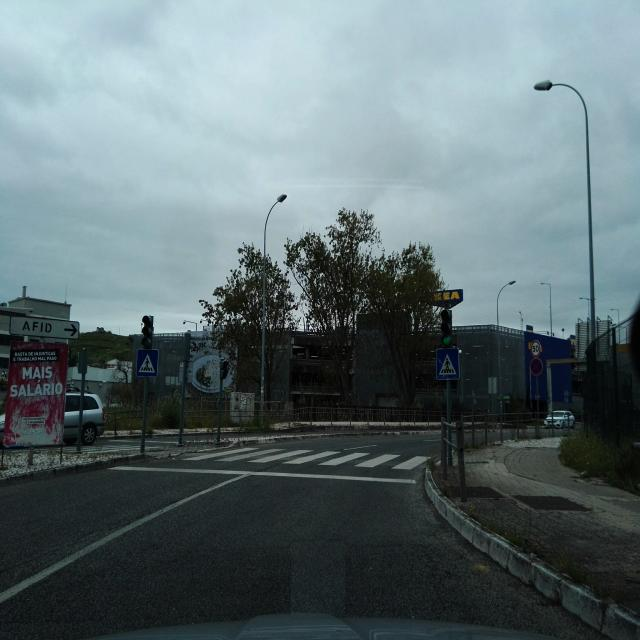car: (63, 389, 105, 446), (543, 410, 575, 429)
